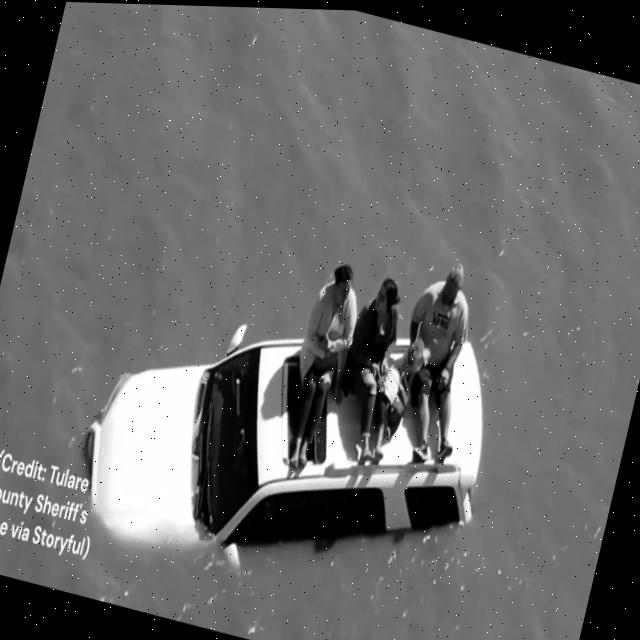civilian: (377, 252, 492, 473), (269, 252, 372, 481), (324, 271, 424, 474)
